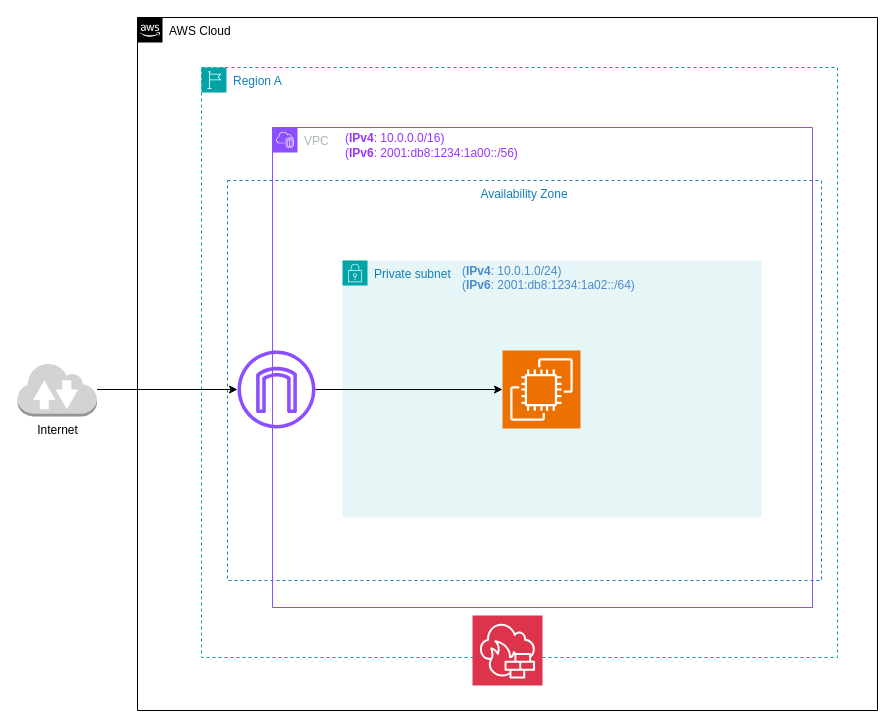
Some shapes in this 895 by 728 pixel diagram are drawn without their labels. The centre of each missing label's shape, as x and y in pixels:
AWS Network Firewall: the point at 507,650
EC2 IPv4 Privada: 10.0.1.5 IPv6 : 2001:db8:1234:1a02::456: the point at 541,389
Egress-Only Internet Gateway: the point at 276,389
